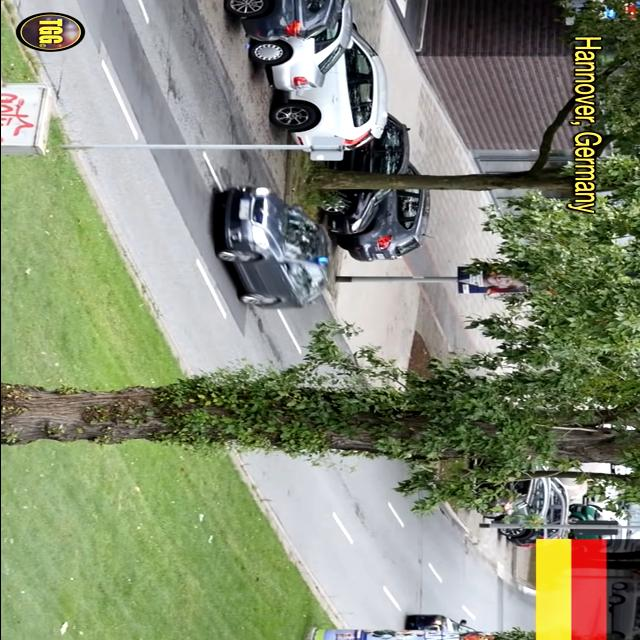emergency-vehicles: (199, 177, 335, 323)
